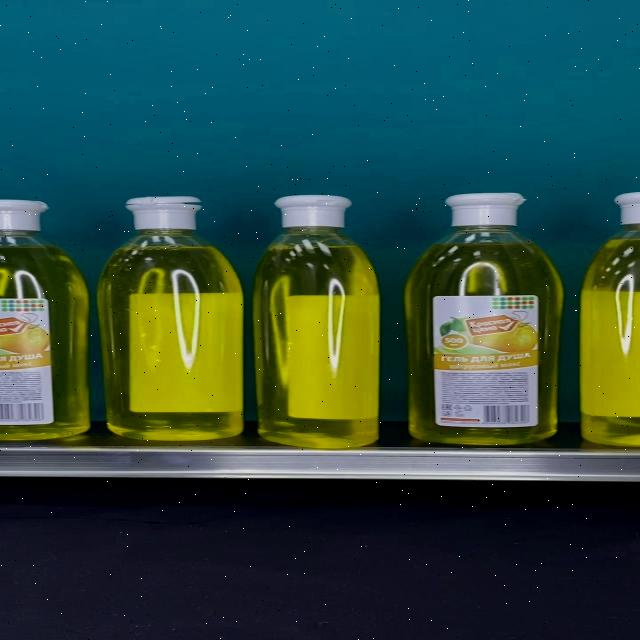Bottle: (405, 192, 562, 444), (97, 196, 244, 440), (253, 196, 380, 448)
Cap: (444, 192, 526, 225), (125, 196, 202, 230), (274, 196, 352, 228)
